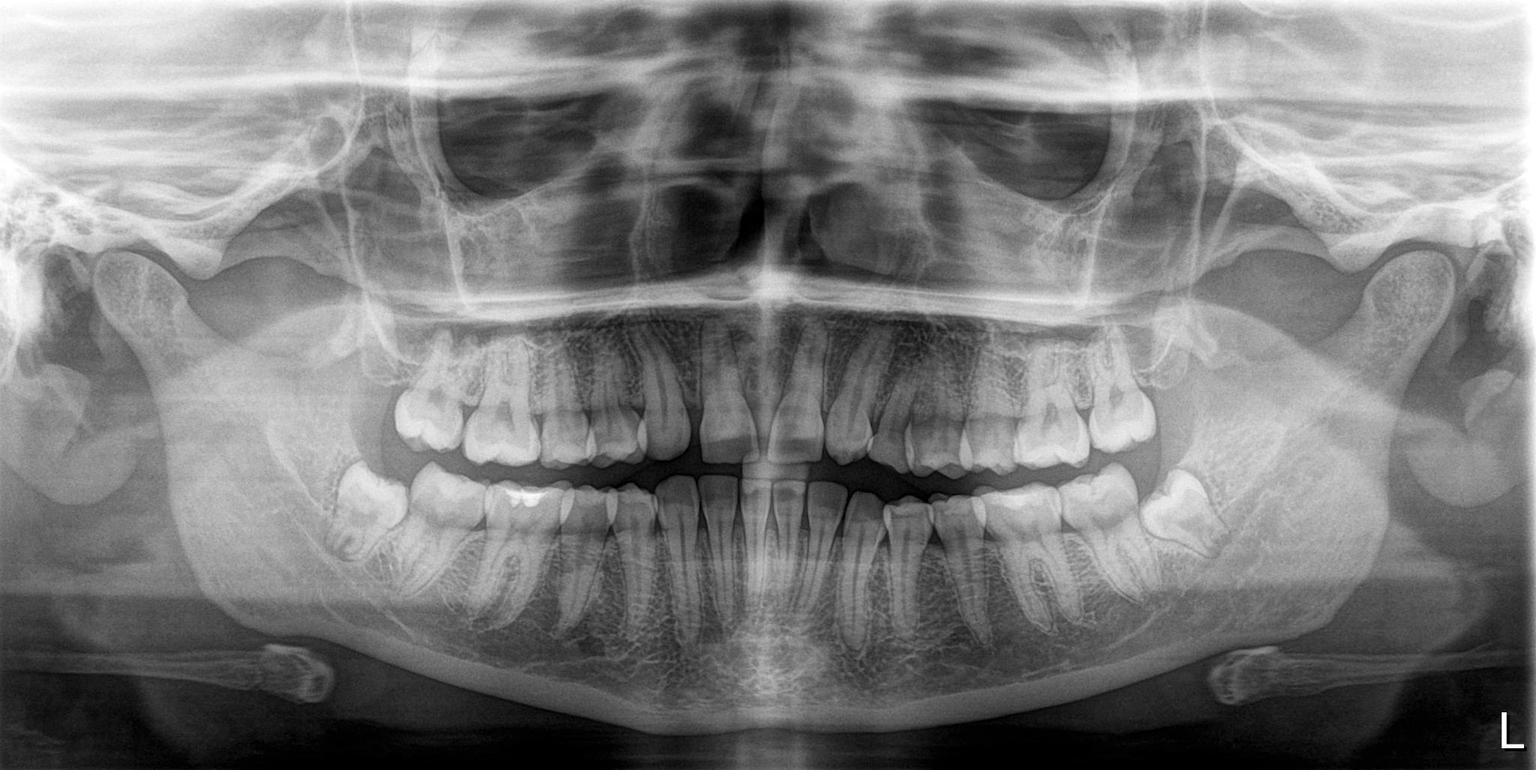Impacted Third Molar: (334, 476, 410, 571), (1136, 482, 1225, 559)
Missing Tooth: (343, 341, 401, 449), (1149, 328, 1201, 443)
